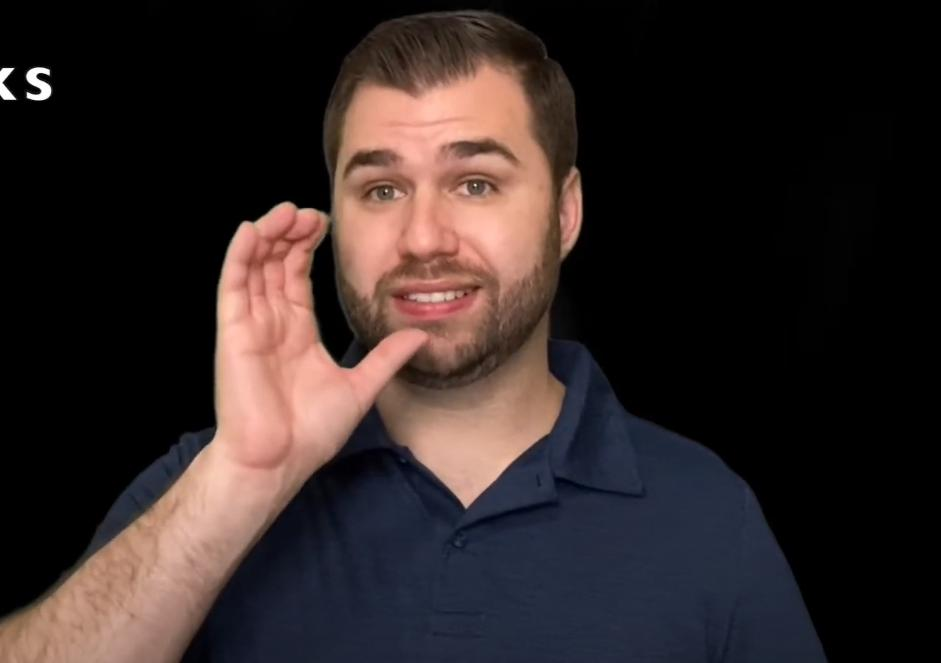drink: (175, 172, 437, 524)
